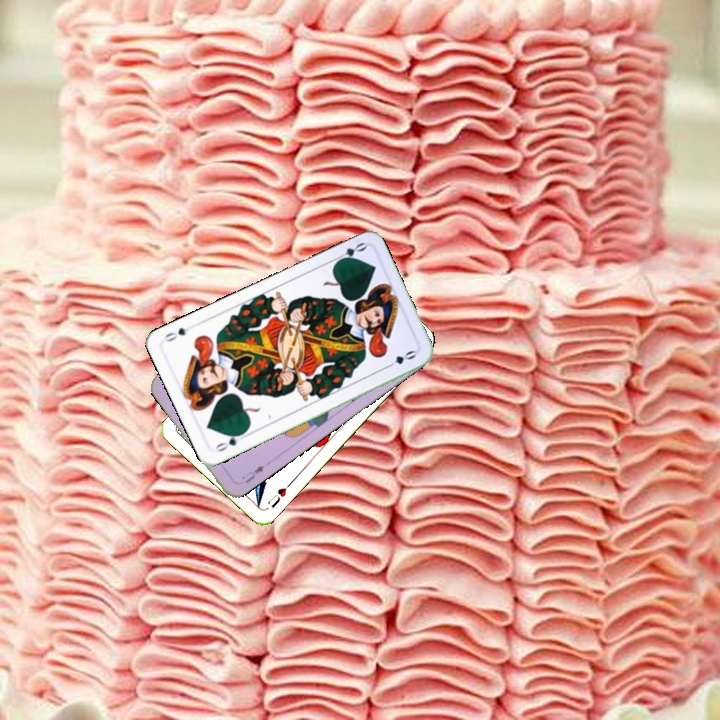EU: (238, 461, 267, 486)
GO: (330, 238, 369, 266), (211, 428, 248, 455)
HU: (263, 478, 294, 510)
